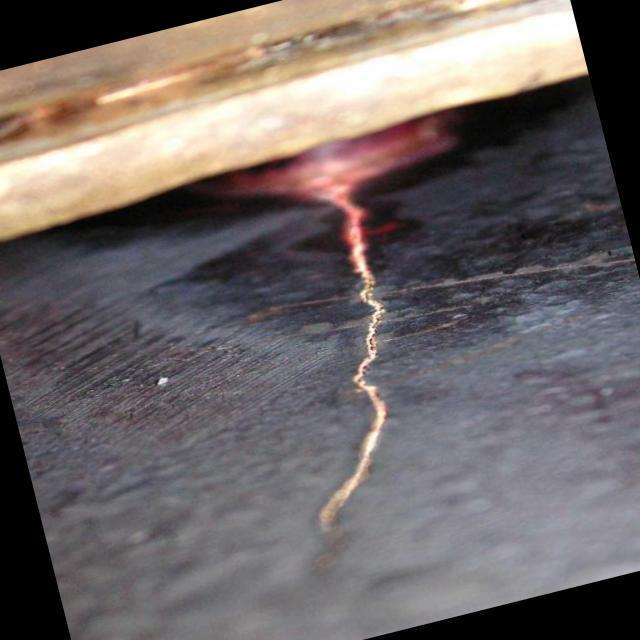defect: (311, 183, 392, 573)
